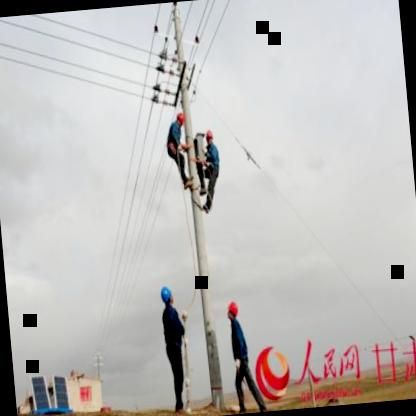helmet: (224, 298, 242, 323), (158, 282, 174, 309), (171, 108, 186, 130), (204, 126, 215, 148)
